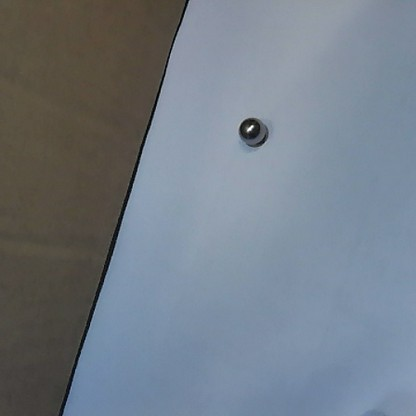ironball: (232, 111, 274, 148)
